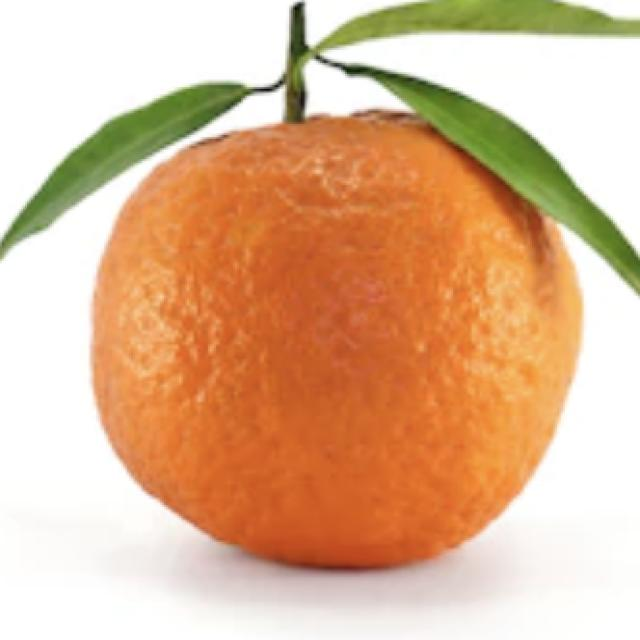orange: (102, 104, 588, 586)
